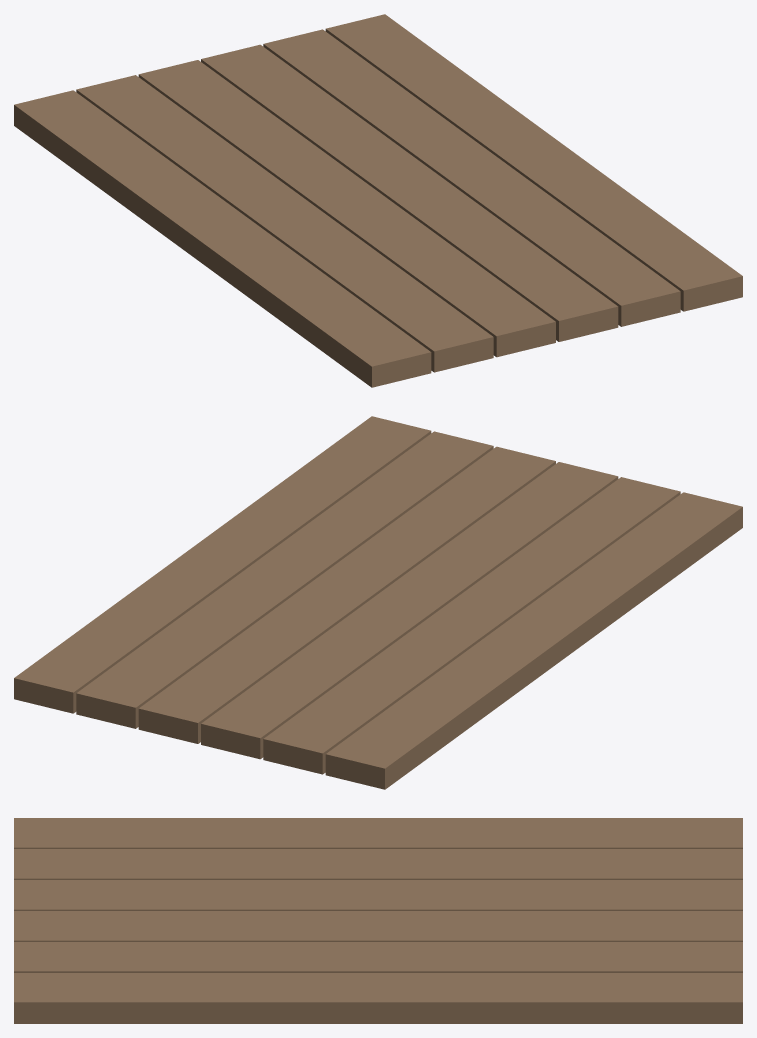
The model's file is Madeiras para chao.fbx.
The picture shows the model from 3 angles, top to bottom: view 1: azimuth 30°, elevation 25°; view 2: azimuth 150°, elevation 25°; view 3: azimuth 270°, elevation 25°; orthographic projection.
Parts seen in each view (by area): view 1: Cube.016; view 2: Cube.016; view 3: Cube.016.
Part boxes in pixels (left/top/right/bottom): Cube.016: left=14, top=14, right=742, bottom=387; Cube.016: left=14, top=416, right=742, bottom=789; Cube.016: left=14, top=818, right=742, bottom=1023.
Size of the model in its own units: 443 by 24.08 by 739.
